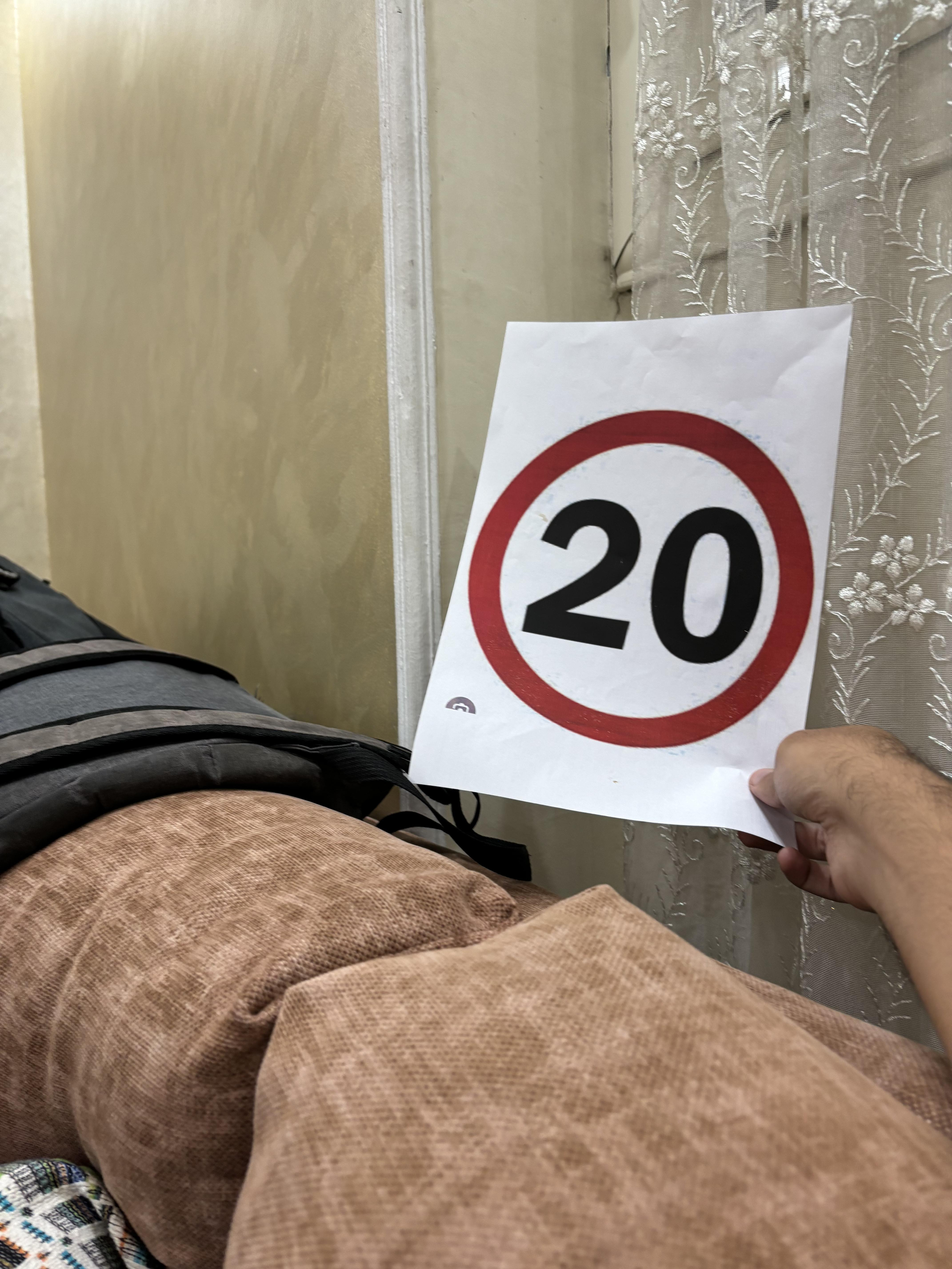20-Speed: (463, 407, 818, 755)
